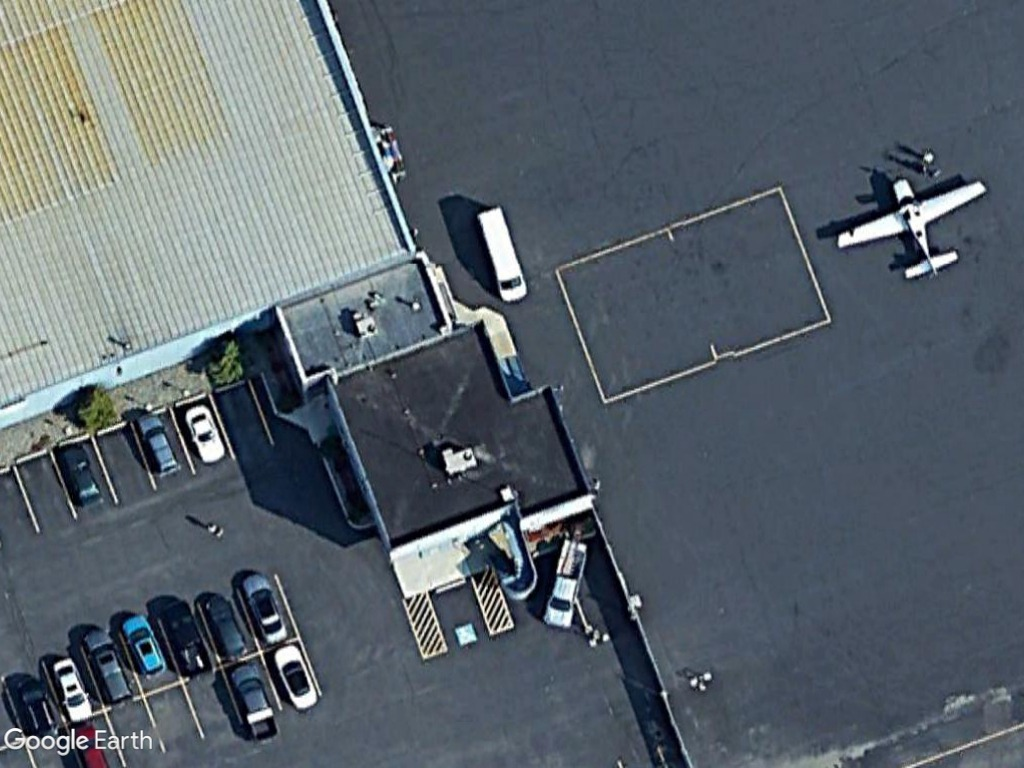car: (77, 627, 135, 707), (238, 560, 288, 647), (129, 409, 184, 485), (117, 611, 171, 683), (201, 591, 251, 665), (270, 640, 320, 713), (50, 651, 95, 727), (182, 401, 228, 468)
other: (224, 658, 287, 743), (539, 536, 590, 631)
trainer: (832, 167, 990, 288)
van: (472, 200, 531, 304)
